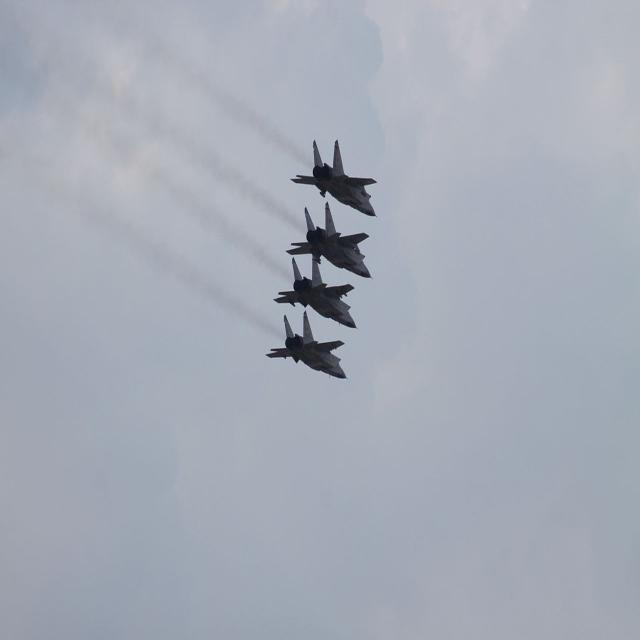MIL_Plane: (289, 138, 379, 219), (285, 201, 375, 280), (273, 255, 359, 331), (265, 309, 349, 381)
